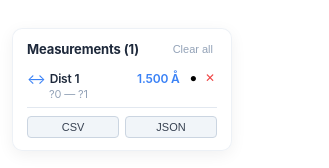
MeasurementListPanel › allows inline renaming via double-click
The width and height of the screenshot is (329, 168).
Double-click the text with test id "measurement-name" at (64, 78), box [50,70,79,86]
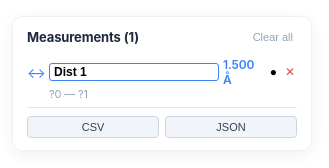
Now the field with test id "measurement-rename-input" is shown
Replace the text in the field with test id "measurement-rename-input" with "My Bond". click: (134, 72)
box: [49,63,219,81]
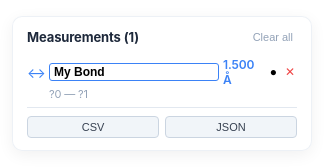
Press Enter in the field with test id "measurement-rename-input", box [49,63,219,81]
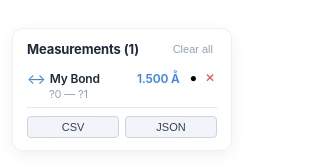
Now the text with test id "measurement-name" reads "My Bond", box [50,70,100,86]
